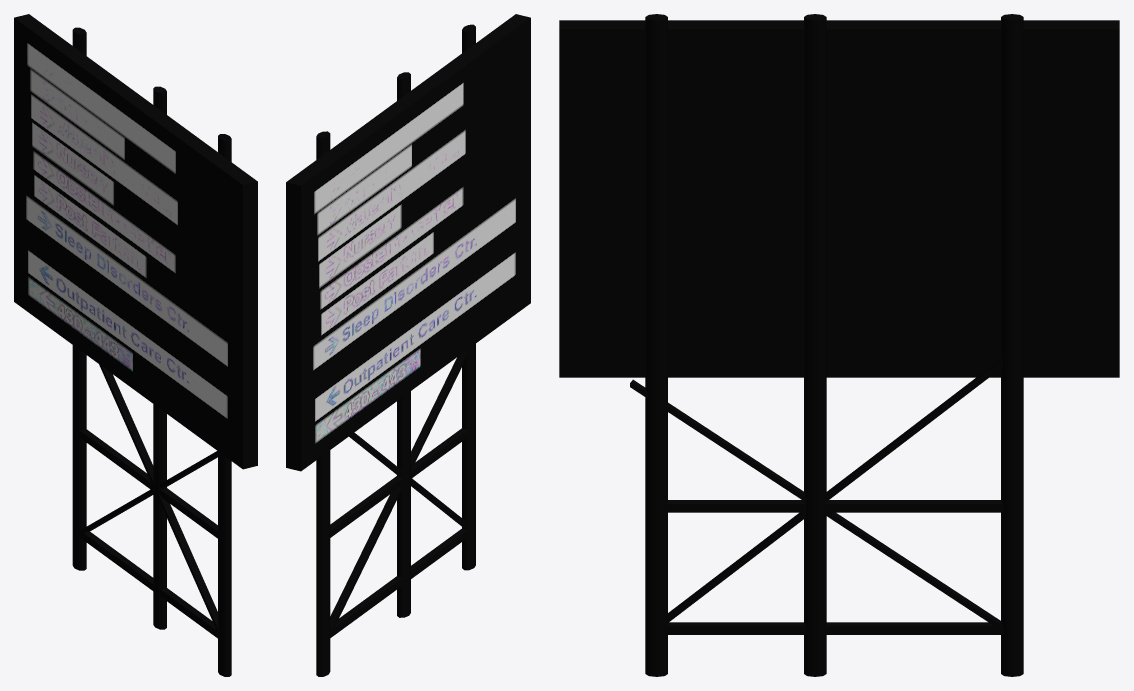
The model's file is billboard.FBX.
3 renders of one model, left to right at view 1: azimuth 30°, elevation 25°; view 2: azimuth 150°, elevation 25°; view 3: azimuth 270°, elevation 25°, orthographic. The views are drawn at different scales.
Parts seen in each view (by area): view 1: Cylinder001; view 2: Cylinder001; view 3: Cylinder001.
Part boxes in pixels (x1,y1,x2,y2): Cylinder001: (14, 14, 257, 676); Cylinder001: (286, 14, 530, 676); Cylinder001: (559, 14, 1119, 676).
Size of the model in its own units: 2.62 by 50 by 38.68.
